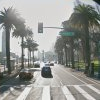crosswalk: (0, 83, 99, 100)
